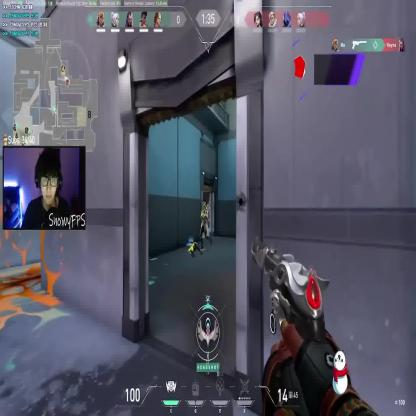enemy: (200, 201, 212, 252)
enemy_head: (202, 201, 206, 210)
